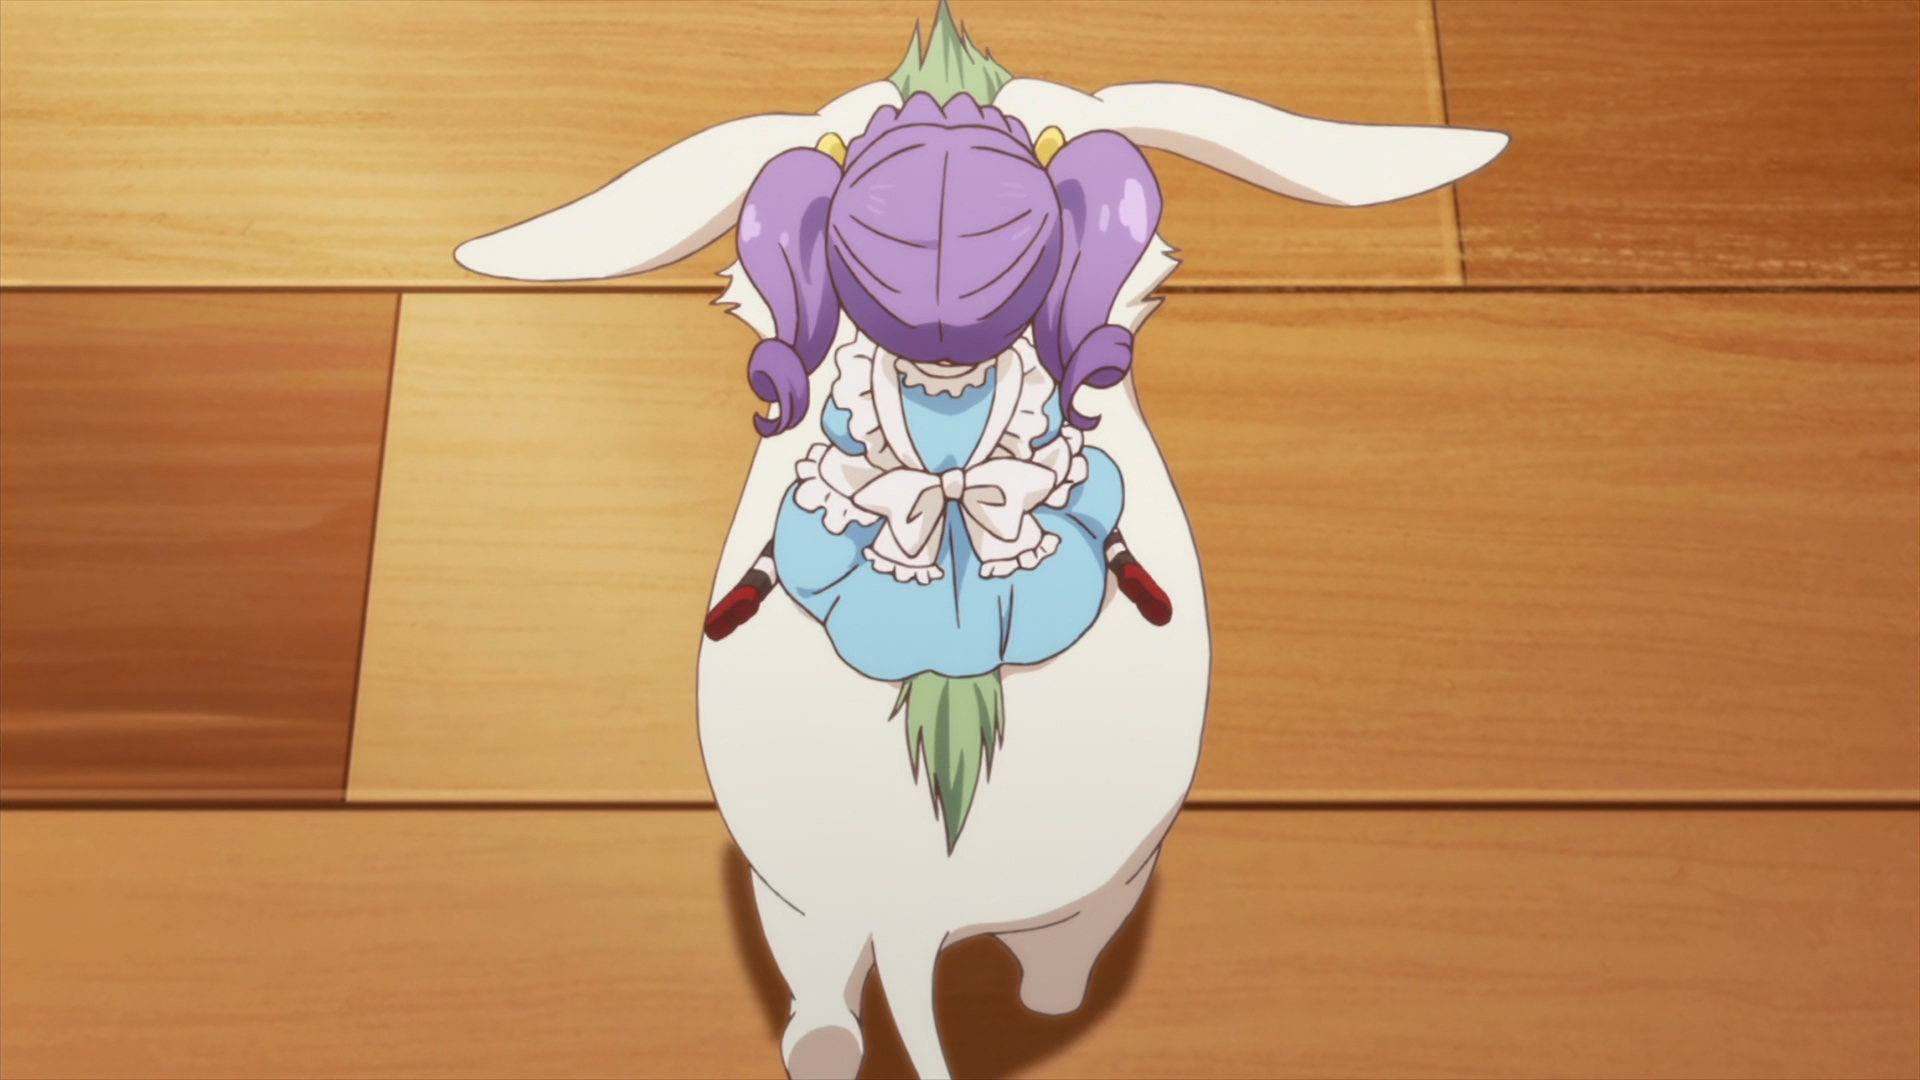瓜之介: (454, 1, 1510, 1080)
阿菊: (702, 88, 1174, 683)
